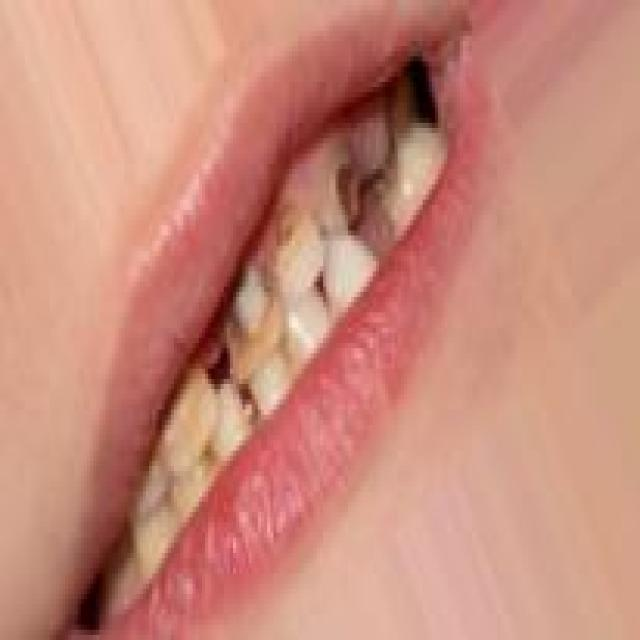caries: (215, 260, 295, 370), (312, 141, 367, 231), (267, 190, 318, 270)
